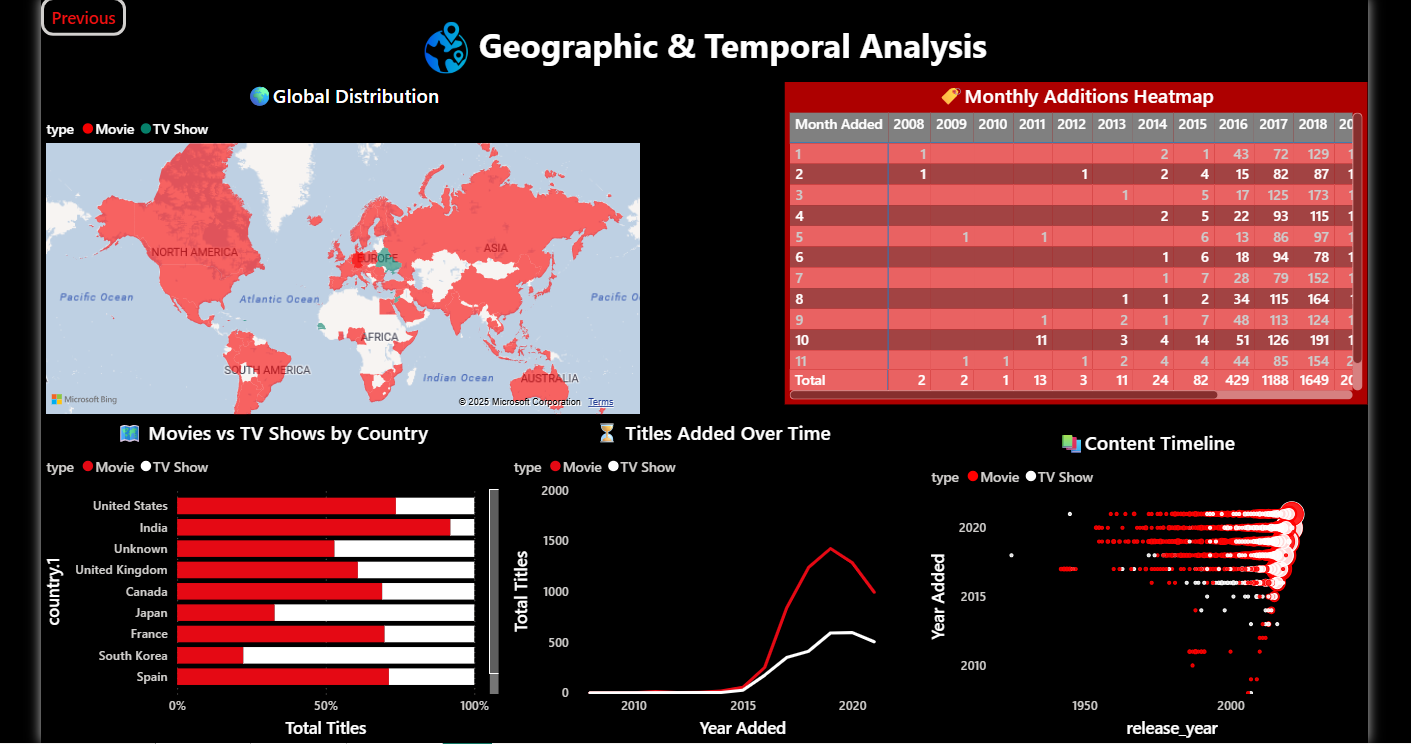

The dashboard page shown, as its layout file describes it:
{"tool":"powerbi","page":{"name":"Page 3","canvas":[1280,720],"ordinal":2},"visuals":[{"type":"textbox","box":[378.8,19.3,577.9,62.7],"z":0},{"type":"lineChart","title":"⏳  Titles Added Over Time","fields":{"Y":["netflix_titles.Total Titles"],"Category":["netflix_titles.Year Added"],"Series":["netflix_titles.type"]},"box":[451.2,407.8,393.3,312.5],"z":1000},{"type":"pivotTable","title":"🏷️Monthly Additions Heatmap","fields":{"Columns":["netflix_titles.Year Added"],"Rows":["netflix_titles.Month Added"],"Values":["netflix_titles.Total Titles"]},"box":[717.8,82,562.2,311.3],"z":2000},{"type":"filledMap","title":"🌍Global Distribution","fields":{"Category":["netflix_titles.country.1"],"Series":["netflix_titles.type"]},"box":[0,82,582.7,325.7],"z":3000},{"type":"hundredPercentStackedBarChart","title":" 🗺️  Movies vs TV Shows by Country","fields":{"Category":["netflix_titles.country.1"],"Y":["netflix_titles.Total Titles"],"Series":["netflix_titles.type"]},"box":[0,407.8,446.4,312.5],"z":4000},{"type":"scatterChart","title":"📚Content Timeline","fields":{"X":["netflix_titles.release_year"],"Y":["netflix_titles.Year Added"],"Size":["netflix_titles.Total Titles"],"Series":["netflix_titles.type"]},"box":[854.2,417.4,425.9,302.8],"z":5000},{"type":"actionButton","box":[0,0,82,37.4],"z":5001},{"type":"image","box":[360.7,19.3,60.3,59.1],"z":5002}]}

Visuals, with their boxes on the page's 1280x720 design canvas (x1, y1, x2, y2). These are canvas units, not pixel positions in the 1411x744 screenshot, which may show the page scaled, cropped or inside an application window:
textbox: (379,19,957,82)
"⏳  Titles Added Over Time" lineChart: (451,408,844,720)
"🏷️Monthly Additions Heatmap" pivotTable: (718,82,1280,393)
"🌍Global Distribution" filledMap: (0,82,583,408)
" 🗺️  Movies vs TV Shows by Country" hundredPercentStackedBarChart: (0,408,446,720)
"📚Content Timeline" scatterChart: (854,417,1280,720)
actionButton: (0,0,82,37)
image: (361,19,421,78)
